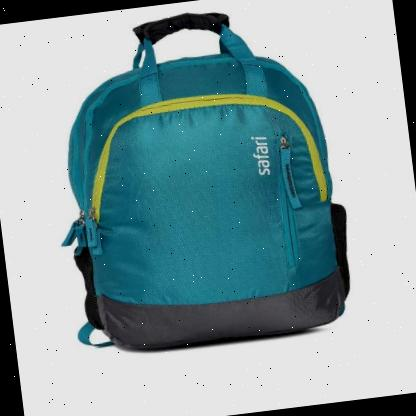bag: (43, 0, 364, 368)
